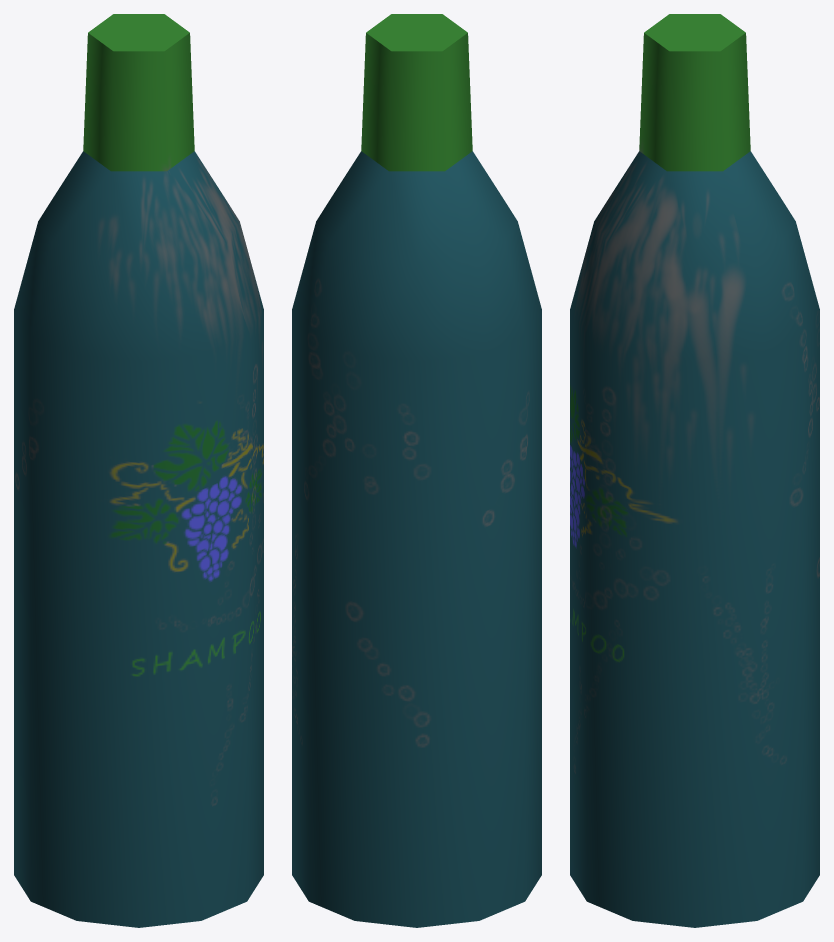
File: Shampoo.FBX
The picture shows the model from 3 angles, left to right: view 1: azimuth 30°, elevation 25°; view 2: azimuth 150°, elevation 25°; view 3: azimuth 270°, elevation 25°; orthographic projection.
Parts seen in each view (by area): view 1: Shampoo_LOD0; view 2: Shampoo_LOD0; view 3: Shampoo_LOD0.
Part boxes in pixels (x1,y1,x2,y2): Shampoo_LOD0: (14,14,263,927); Shampoo_LOD0: (292,14,541,927); Shampoo_LOD0: (570,14,819,927).
Size of what is drawn, in the model's own units: 5.5 by 20.47 by 5.5.
